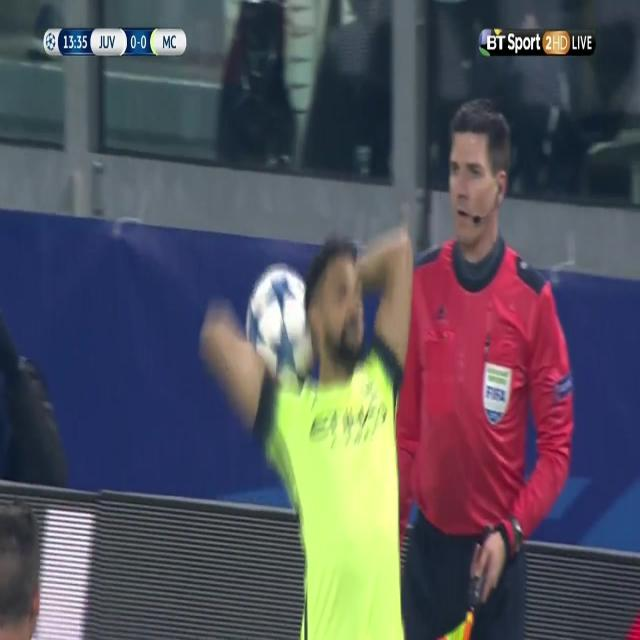Ball: (243, 258, 317, 380)
Player: (198, 222, 418, 640)
Referee: (394, 94, 576, 640)
